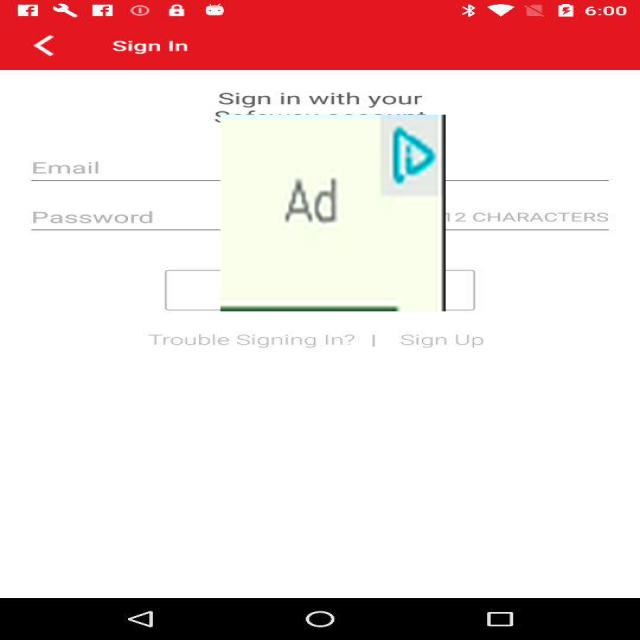sneaking: (220, 115, 446, 311)
